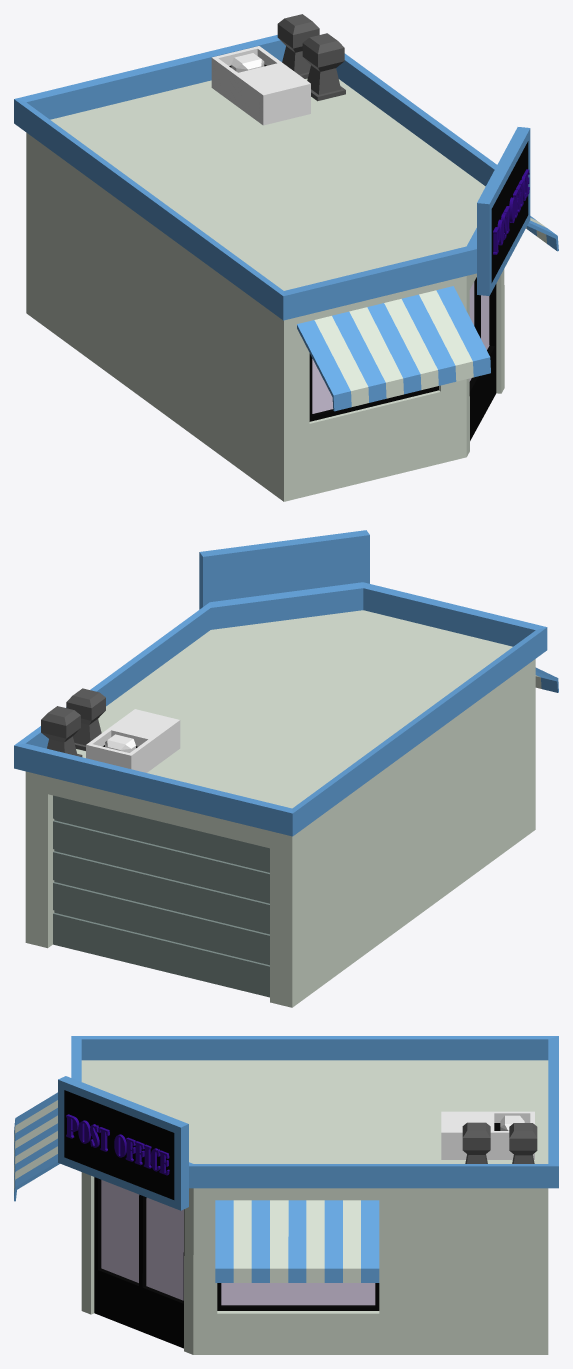
The model's file is postoffice.fbx.
The picture shows the model from 3 angles, top to bottom: view 1: azimuth 30°, elevation 25°; view 2: azimuth 150°, elevation 25°; view 3: azimuth 270°, elevation 25°; orthographic projection. The views are drawn at different scales.
Parts seen in each view (by area): view 1: post office; view 2: post office; view 3: post office.
Part boxes in pixels (x1,y1,x2,y2): post office: (14,14,558,501); post office: (14,530,558,1007); post office: (14,1036,558,1354).
Size of the model in its own units: 1675 by 1173 by 2458.
